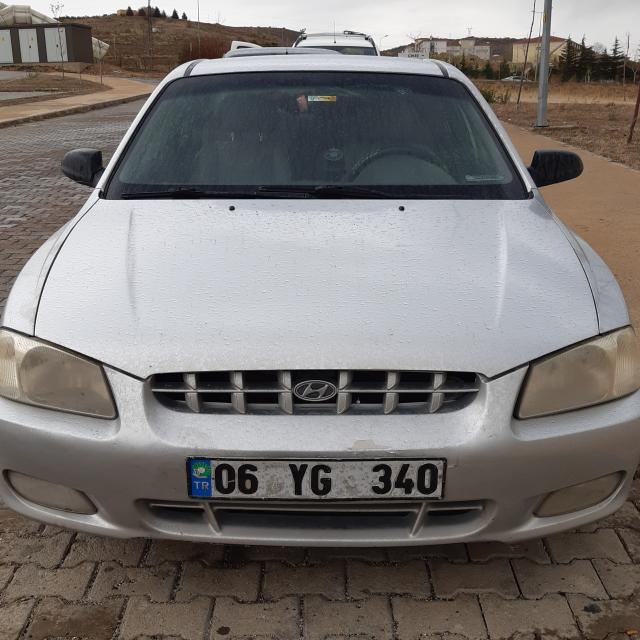license_plate: (188, 457, 444, 499)
